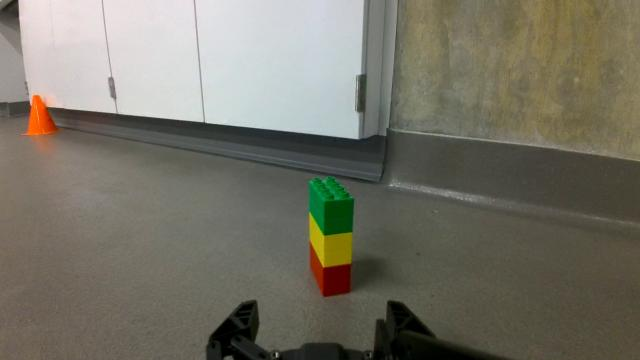lego: (305, 170, 360, 302)
